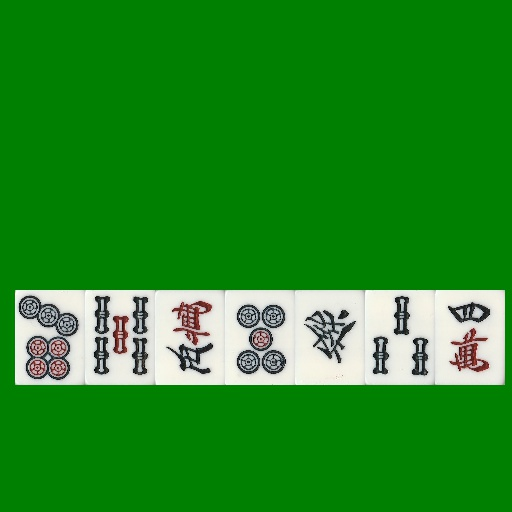3s: (365, 290, 435, 385)
4m: (435, 290, 505, 385)
5m: (155, 290, 225, 385)
5p: (225, 290, 295, 385)
5s: (85, 290, 155, 385)
7p: (15, 290, 85, 385)
hatsu: (295, 290, 365, 385)
